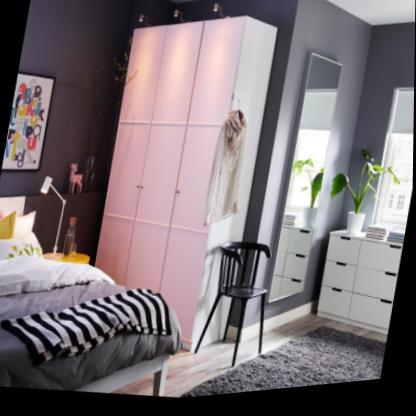Bed: (0, 177, 201, 413)
Chair: (192, 235, 284, 383)
